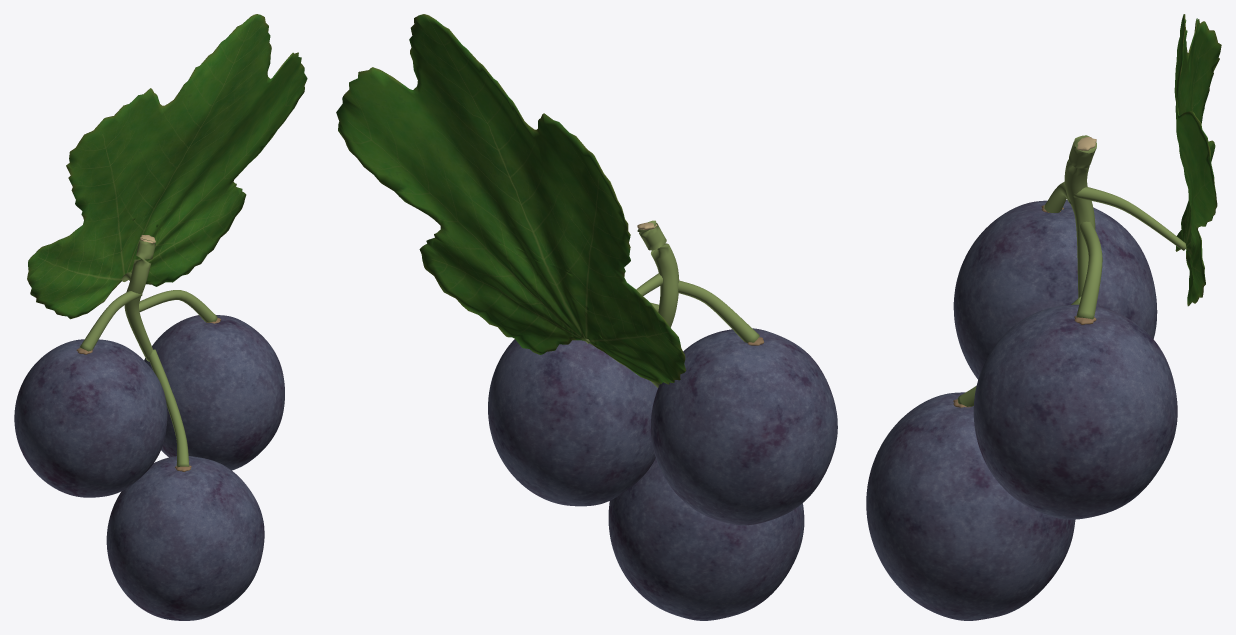
The model's file is grapes_game.glb.
3 views of the same model, side by side, from view 1: azimuth 30°, elevation 25°; view 2: azimuth 150°, elevation 25°; view 3: azimuth 270°, elevation 25° (orthographic). The views are drawn at different scales.
Parts seen in each view (by area): view 1: GrapeLeaf_Blade, Grape_03 | individual berry, Grape_01 | individual berry, Grape_02 | individual berry, Stem | short natural rachis, Pedicel 03, Pedicel 02, Pedicel 01; view 2: GrapeLeaf_Blade, Grape_01 | individual berry, Grape_02 | individual berry, Grape_03 | individual berry, Stem | short natural rachis, Pedicel 01; view 3: Grape_02 | individual berry, Grape_03 | individual berry, Grape_01 | individual berry, GrapeLeaf_Blade, Stem | short natural rachis, Pedicel 02, Leaf | short petiole.
Part boxes in pixels (x1,y1,x2,y2): GrapeLeaf_Blade: (27, 14, 307, 319); Grape_03 | individual berry: (106, 456, 264, 620); Grape_01 | individual berry: (14, 339, 167, 497); Grape_02 | individual berry: (144, 315, 284, 470); Stem | short natural rachis: (124, 238, 155, 361); Pedicel 03: (148, 349, 189, 467); Pedicel 02: (139, 290, 217, 322); Pedicel 01: (79, 291, 142, 351); GrapeLeaf_Blade: (336, 14, 686, 384); Grape_01 | individual berry: (651, 328, 837, 525); Grape_02 | individual berry: (488, 339, 657, 506); Grape_03 | individual berry: (608, 458, 804, 620); Stem | short natural rachis: (637, 220, 679, 327); Pedicel 01: (678, 280, 759, 342); Grape_02 | individual berry: (973, 304, 1177, 519); Grape_03 | individual berry: (866, 392, 1075, 620); Grape_01 | individual berry: (953, 200, 1157, 379); GrapeLeaf_Blade: (1174, 14, 1221, 306); Stem | short natural rachis: (1064, 135, 1096, 297); Pedicel 02: (1076, 221, 1102, 319); Leaf | short petiole: (1073, 187, 1185, 250).
Size of the model in its own units: 0.0536 by 0.0764 by 0.0355.
7 materials, 4 textured.
